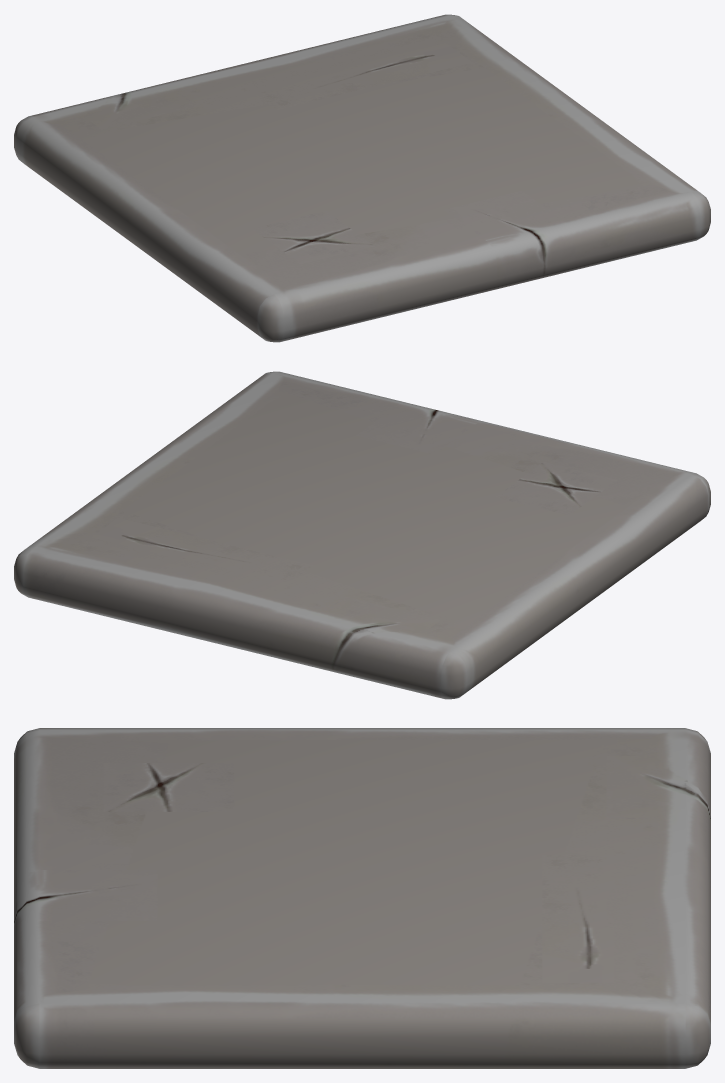
Rendered from PuzzlePiece.fbx.
The picture shows the model from 3 angles, top to bottom: view 1: azimuth 30°, elevation 25°; view 2: azimuth 150°, elevation 25°; view 3: azimuth 270°, elevation 25°; orthographic projection. The views are drawn at different scales.
Visible parts, largest first — view 1: PuzzlePiece; view 2: PuzzlePiece; view 3: PuzzlePiece.
Boxes of the visible parts, x1,y1,x2,y2 form: PuzzlePiece: [14, 14, 710, 342]; PuzzlePiece: [14, 371, 710, 699]; PuzzlePiece: [14, 728, 710, 1068].
Bounding box in the file's own units: 200 × 20 × 200.
